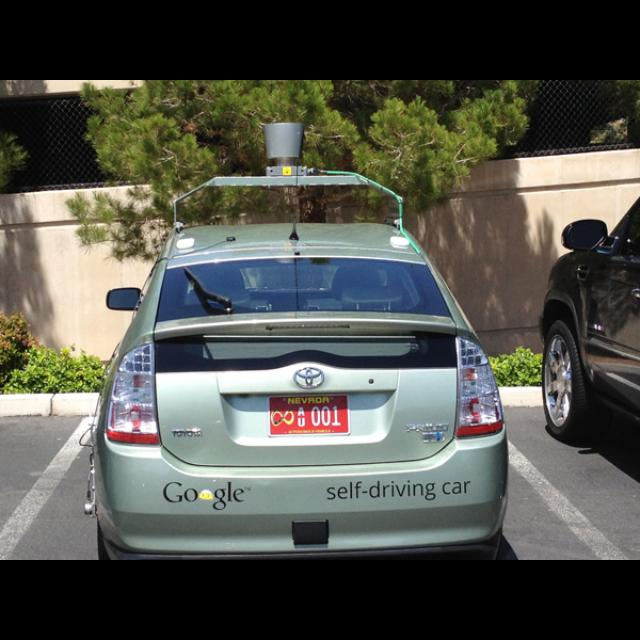carPlate: (268, 396, 349, 434)
